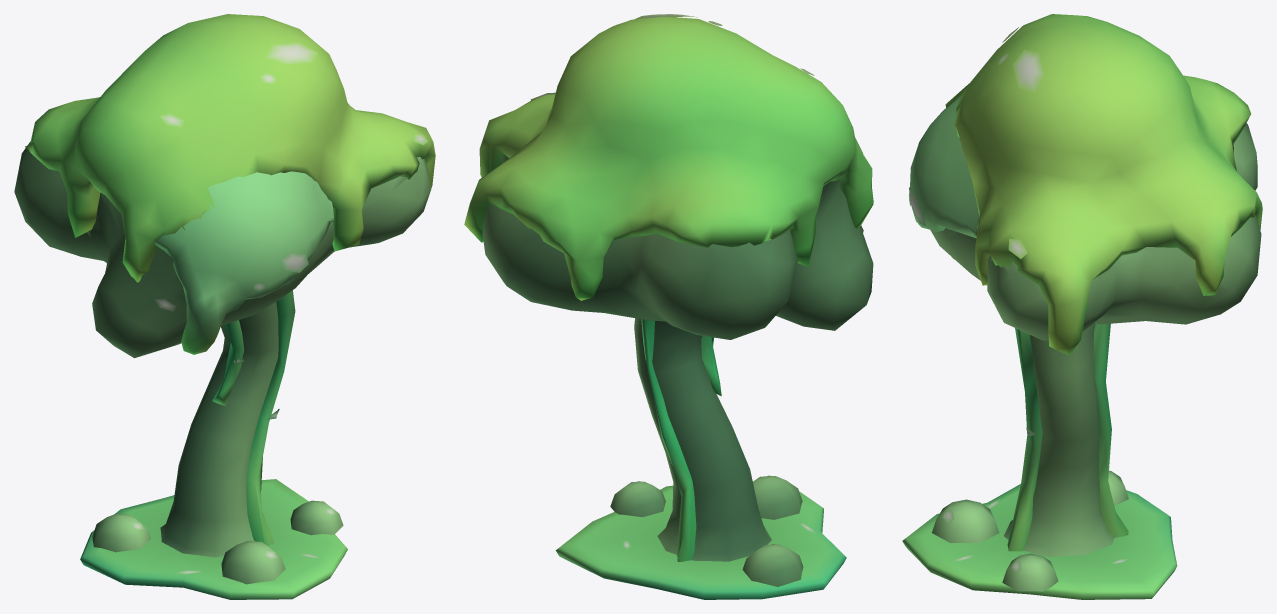
Rendered from Gooey_Tree_Remake_Puddle.glb.
The picture shows the model from 3 angles, left to right: view 1: azimuth 30°, elevation 25°; view 2: azimuth 150°, elevation 25°; view 3: azimuth 270°, elevation 25°; orthographic projection. The views are drawn at different scales.
Parts seen in each view (by area): view 1: Gooey_Remake_Puddle; view 2: Gooey_Remake_Puddle; view 3: Gooey_Remake_Puddle.
Boxes of the visible parts, x1,y1,x2,y2 form: Gooey_Remake_Puddle: (14, 14, 435, 599); Gooey_Remake_Puddle: (464, 14, 873, 599); Gooey_Remake_Puddle: (902, 14, 1262, 599).
Size of the model in its own units: 7.82 by 10.66 by 6.67.
